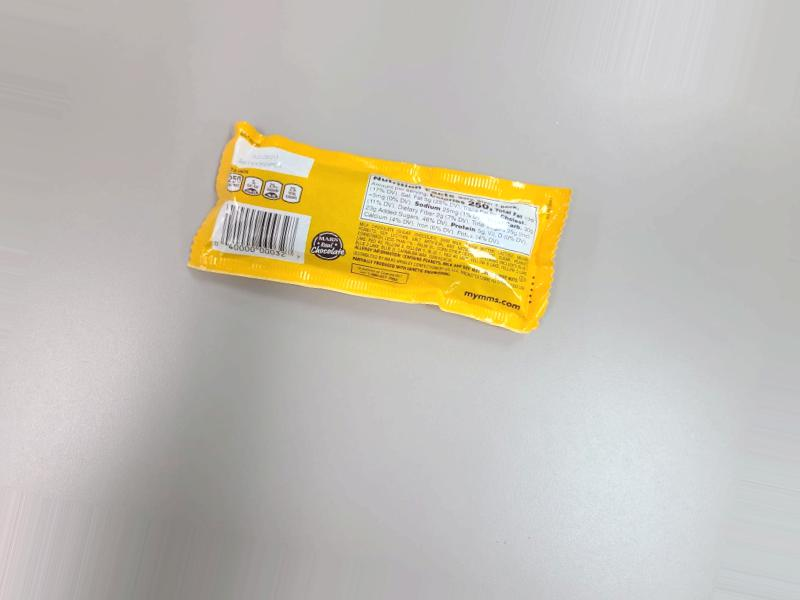m&m: (184, 122, 588, 338)
